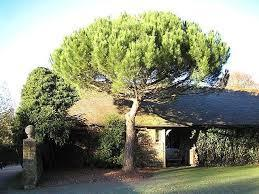tree: (47, 8, 233, 175)
